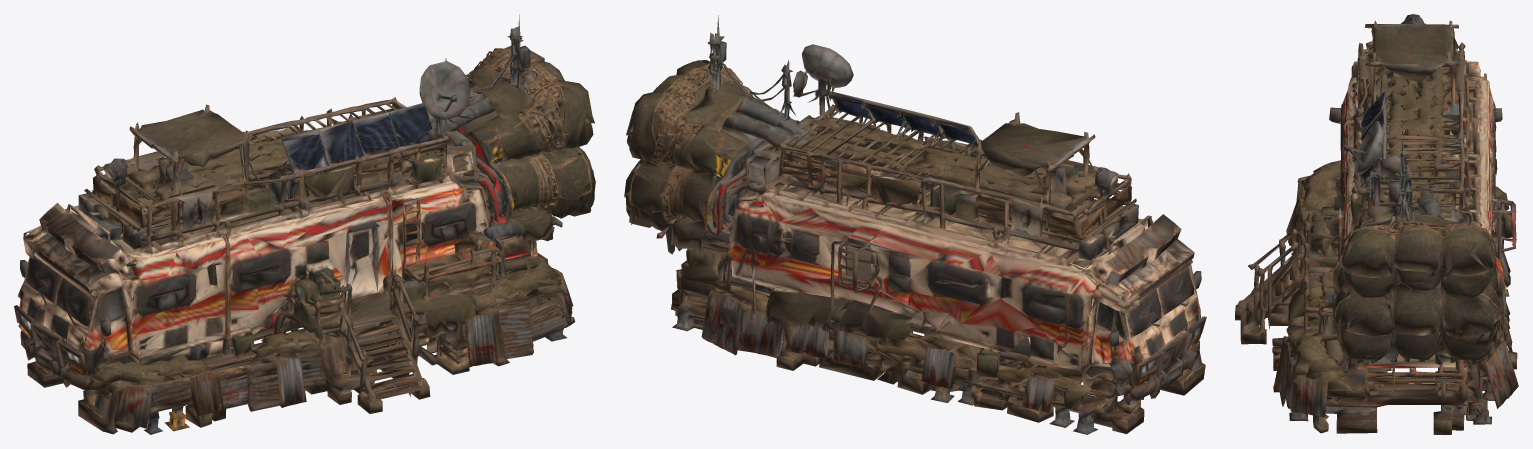
Rendered from ShipFort.glb.
The picture shows the model from 3 angles, left to right: view 1: azimuth 30°, elevation 25°; view 2: azimuth 150°, elevation 25°; view 3: azimuth 270°, elevation 25°; orthographic projection. The views are drawn at different scales.
Visible parts, largest first — view 1: Mesh_0; view 2: Mesh_0; view 3: Mesh_0.
Boxes of the visible parts, x1=… form: Mesh_0: x1=14, y1=14, x2=595, y2=434; Mesh_0: x1=624, y1=15, x2=1206, y2=434; Mesh_0: x1=1235, y1=14, x2=1518, y2=434.
Bounding box in the file's own units: 1.9 × 0.9957 × 0.9179.
Materials: 1 (1 with a texture image).
